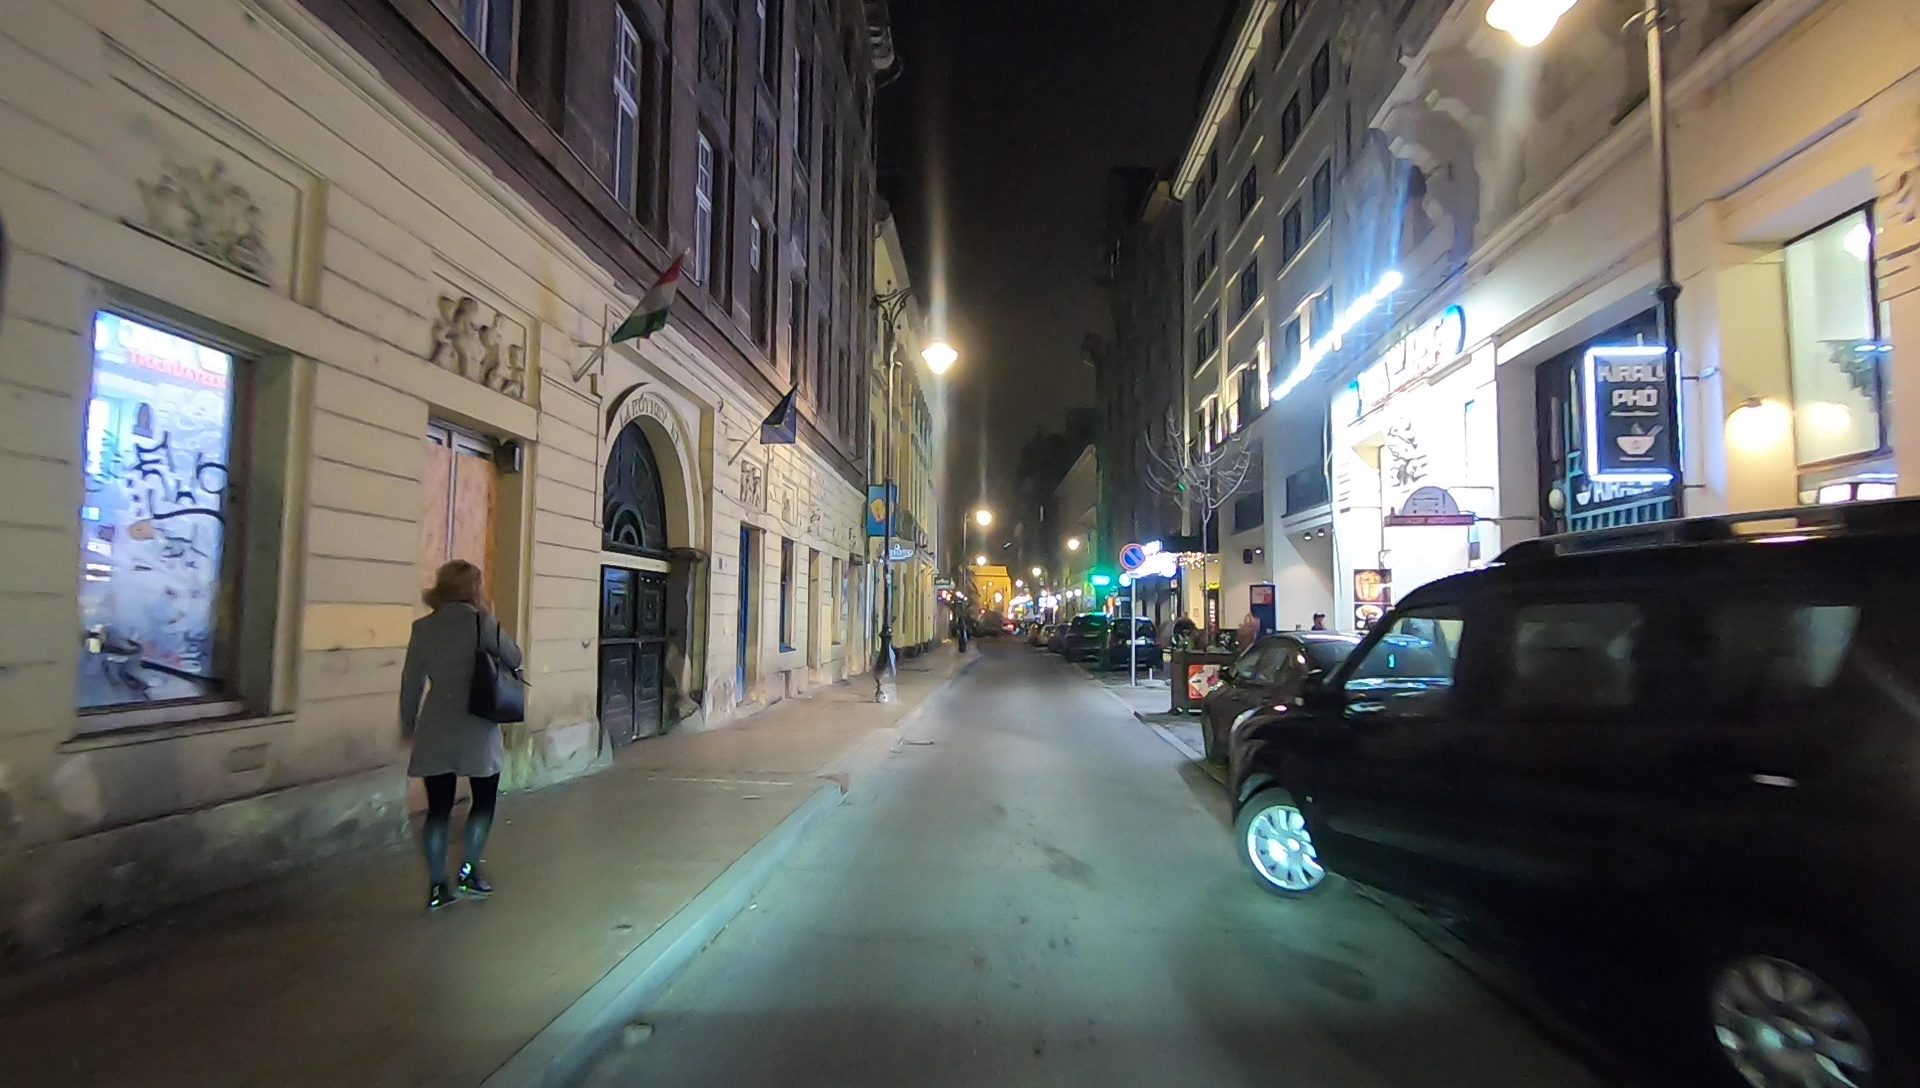person: (395, 556, 515, 900)
